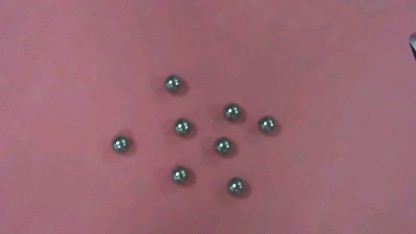ironball: (219, 172, 245, 199), (167, 114, 192, 140), (168, 163, 190, 190), (108, 131, 132, 155), (254, 111, 276, 136), (213, 133, 233, 155), (221, 101, 241, 121), (162, 72, 181, 91)
